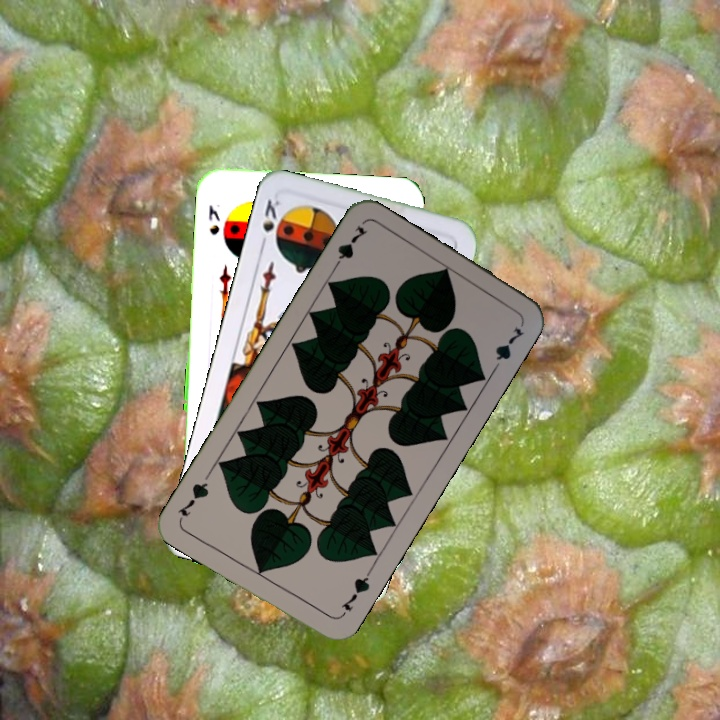G7: (328, 221, 371, 274), (336, 567, 374, 620)
SK: (256, 195, 282, 252), (204, 201, 222, 237)
